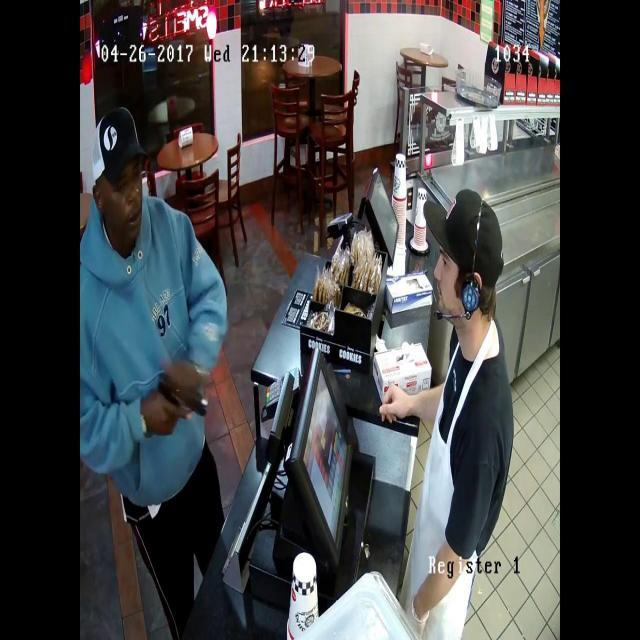Gun: (138, 363, 218, 431)
